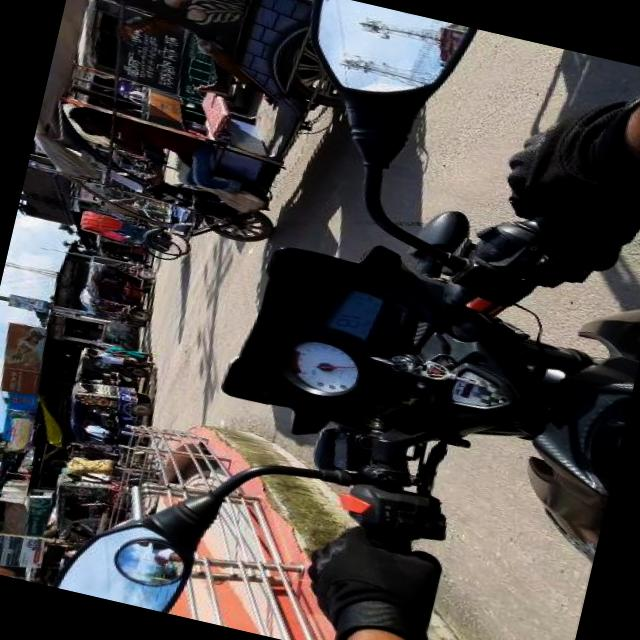motorcycle: (212, 2, 640, 640), (20, 0, 324, 255), (74, 183, 198, 262), (58, 371, 156, 452), (78, 250, 159, 319), (73, 344, 148, 394), (88, 302, 142, 326)
